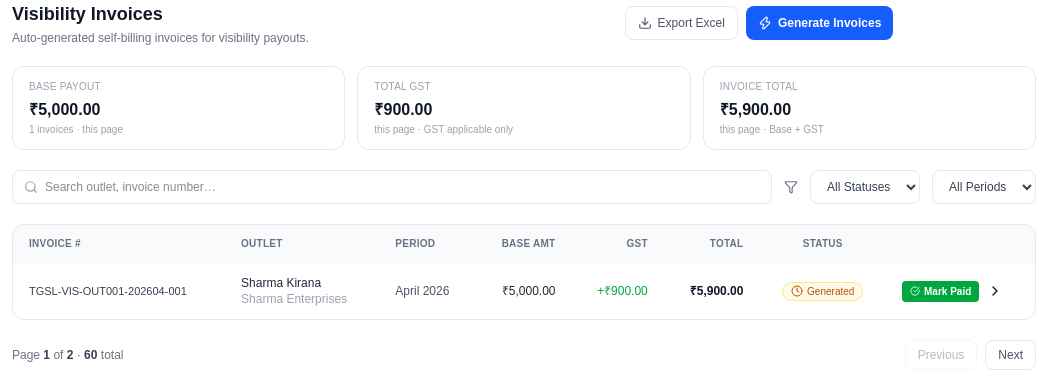
Test: ADMI — Admin Invoice list API wiring › ADMI13: Prev/Next render for multi-page results and Next advances the page
The width and height of the screenshot is (1048, 387).
Expected: the text "TGSL-VIS-OUT001-202604-001" is shown, x1=13 y1=263 x2=225 y2=319
Click the button "Next". click: [1011, 355]
box: x1=985 y1=340 x2=1036 y2=370
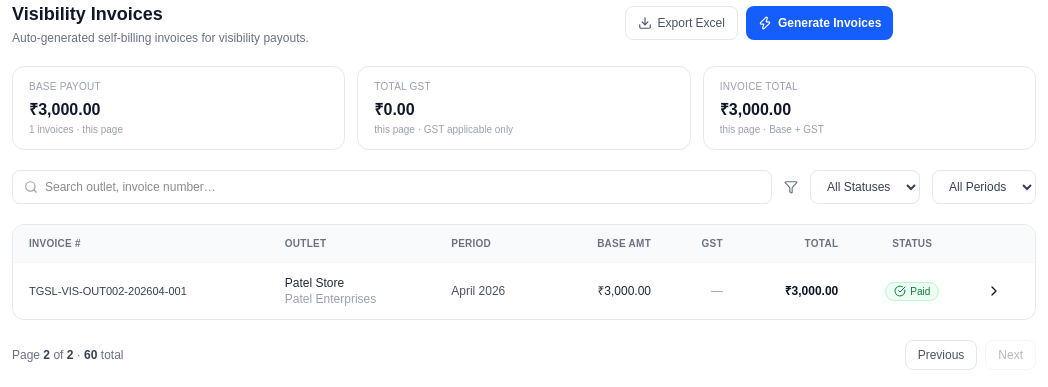
Expected: the text "TGSL-VIS-OUT002-202604-001" is shown, x1=13 y1=263 x2=269 y2=319
